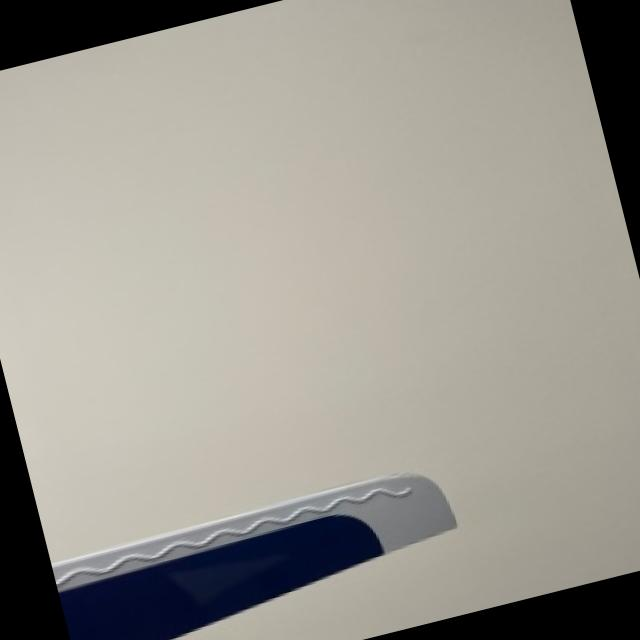healthy: (53, 471, 456, 640)
